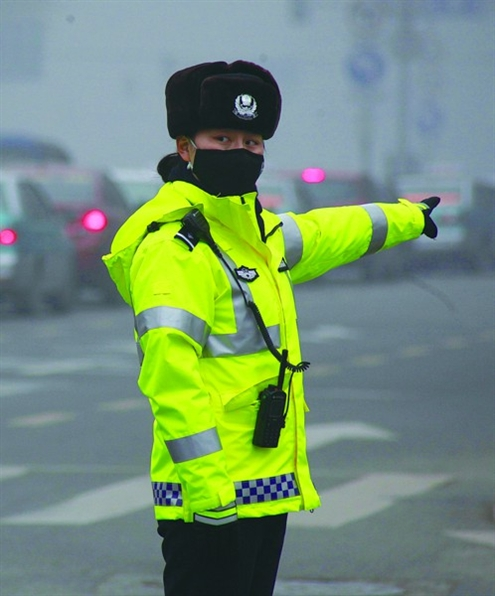face_mask: (191, 105, 263, 197)
